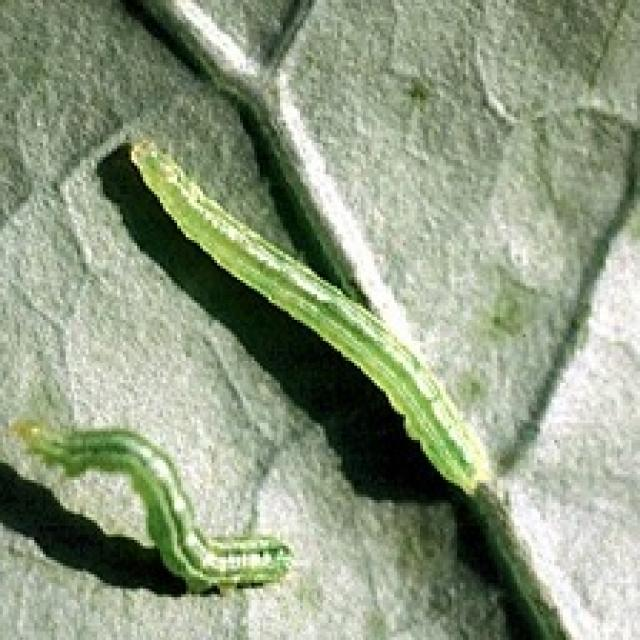Cabbage-worm: (128, 109, 498, 481), (30, 410, 301, 595)
